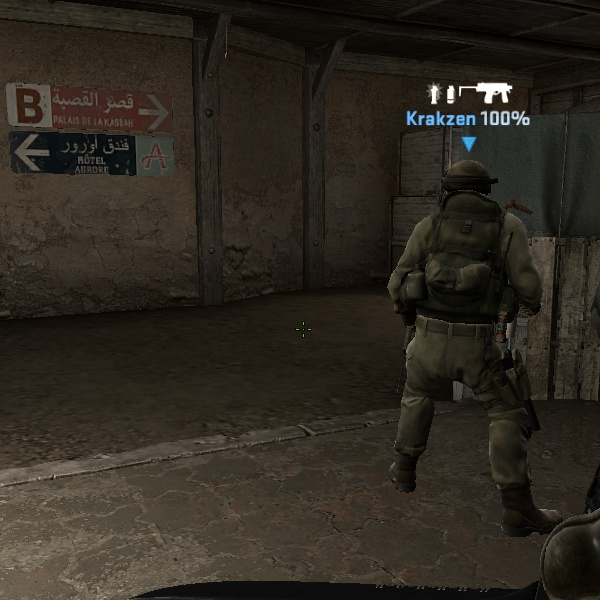ct_body: (370, 146, 566, 496)
ct_head: (430, 150, 505, 222)
